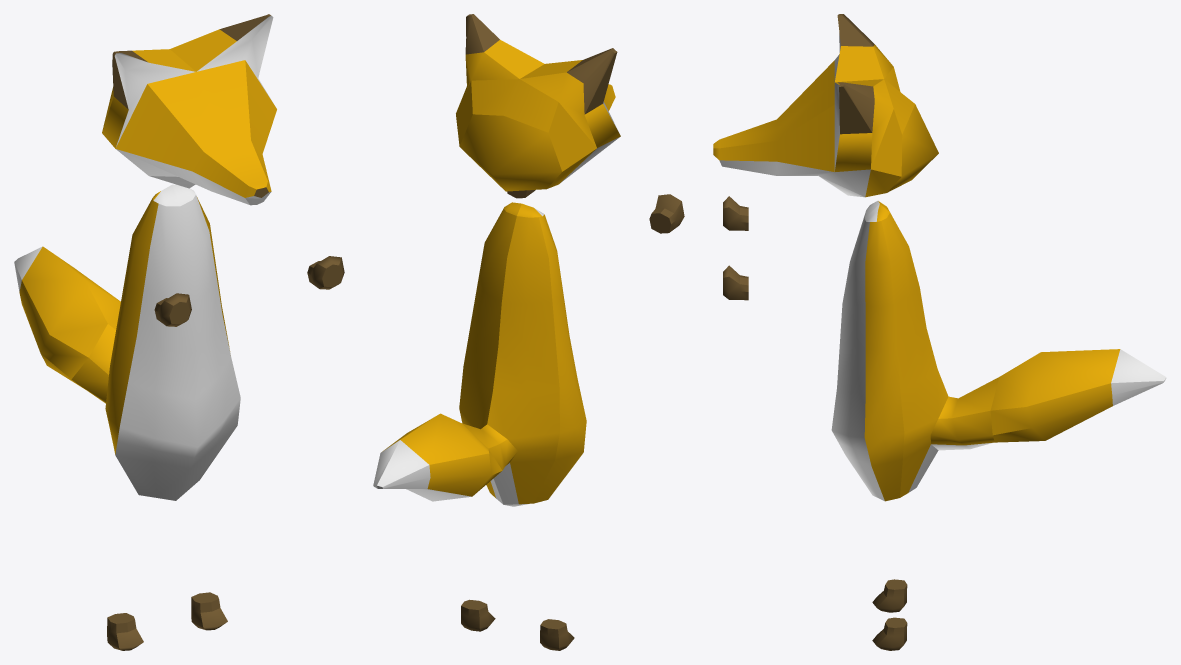
File: Fox_Avatar2.fbx
3 renders of one model, left to right at view 1: azimuth 30°, elevation 25°; view 2: azimuth 150°, elevation 25°; view 3: azimuth 270°, elevation 25°, orthographic. The views are drawn at different scales.
Parts seen in each view (by area): view 1: Fox_Body, Fox_Head, Fox_Paws1:L_Foot, Fox_Paws1:R_Foot, Fox_Paws1:L_Hand, Fox_Paws1:R_Hand; view 2: Fox_Body, Fox_Head, Fox_Paws1:R_Hand, Fox_Paws1:R_Foot, Fox_Paws1:L_Foot; view 3: Fox_Body, Fox_Head, Fox_Paws1:R_Foot, Fox_Paws1:L_Foot, Fox_Paws1:R_Hand, Fox_Paws1:L_Hand.
Boxes of the visible parts, x1,y1,x2,y2 form: Fox_Body: [14, 184, 240, 500]; Fox_Head: [102, 14, 276, 205]; Fox_Paws1:L_Foot: [191, 592, 227, 630]; Fox_Paws1:R_Foot: [107, 613, 143, 650]; Fox_Paws1:L_Hand: [307, 256, 344, 289]; Fox_Paws1:R_Hand: [154, 293, 191, 326]; Fox_Body: [373, 202, 586, 506]; Fox_Head: [456, 14, 620, 191]; Fox_Paws1:R_Hand: [649, 194, 684, 233]; Fox_Paws1:R_Foot: [540, 619, 574, 650]; Fox_Paws1:L_Foot: [461, 599, 495, 631]; Fox_Body: [831, 201, 1166, 501]; Fox_Head: [713, 14, 938, 197]; Fox_Paws1:R_Foot: [872, 579, 907, 612]; Fox_Paws1:L_Foot: [872, 617, 907, 650]; Fox_Paws1:R_Hand: [723, 196, 748, 230]; Fox_Paws1:L_Hand: [723, 265, 748, 300].
Bounding box in the file's own units: 14.43 × 46.74 × 33.19.
